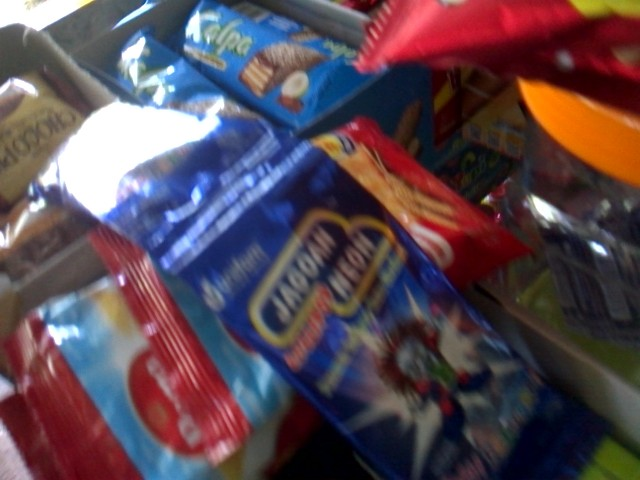jagoan neon: (152, 141, 610, 476)
